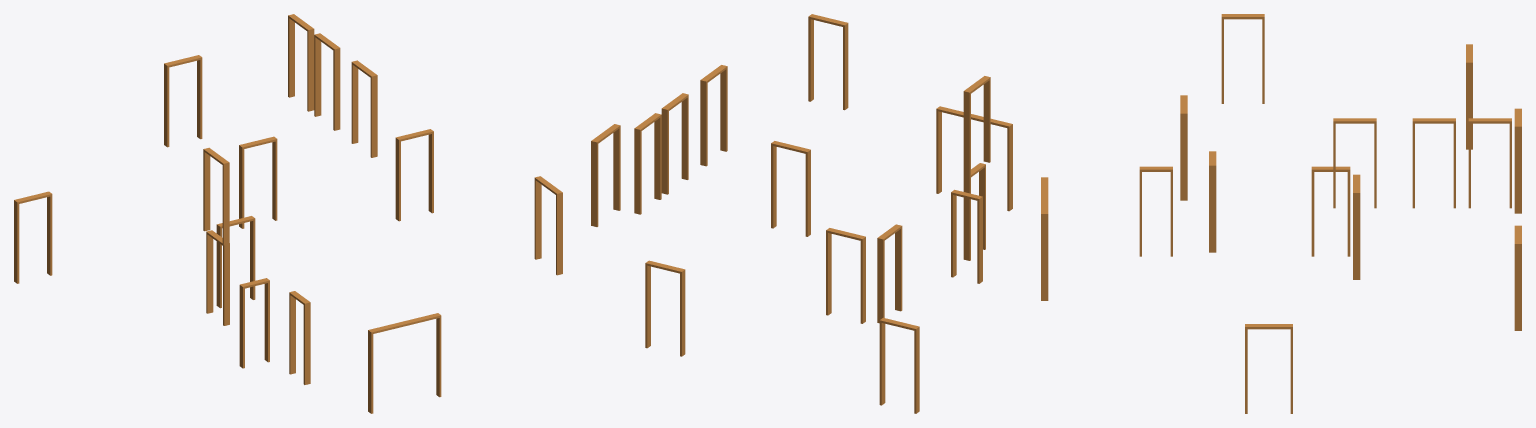
Rendered from DOORS.dae.
3 views of the same model, side by side, from view 1: azimuth 30°, elevation 25°; view 2: azimuth 150°, elevation 25°; view 3: azimuth 270°, elevation 25° (orthographic). The views are drawn at different scales.
Parts seen in each view (by area): view 1: A-Wall_curve__062; view 2: A-Wall_curve__062; view 3: A-Wall_curve__062.
Part boxes in pixels (<box>): A-Wall_curve__062: <box>14,14,562,413</box>; A-Wall_curve__062: <box>591,14,1012,413</box>; A-Wall_curve__062: <box>1041,14,1521,413</box>.
Size of the model in its own units: 10.77 by 10.02 by 5.
